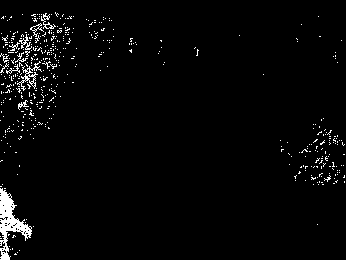person: (1, 181, 32, 260)
